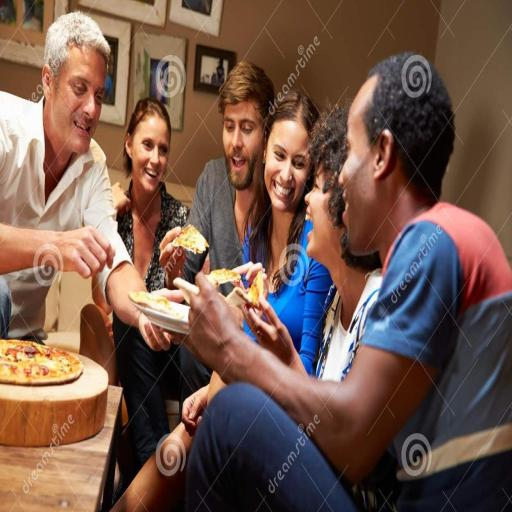person: (184, 54, 511, 511), (0, 12, 169, 348), (161, 61, 274, 285), (244, 91, 332, 373), (81, 314, 179, 470)
